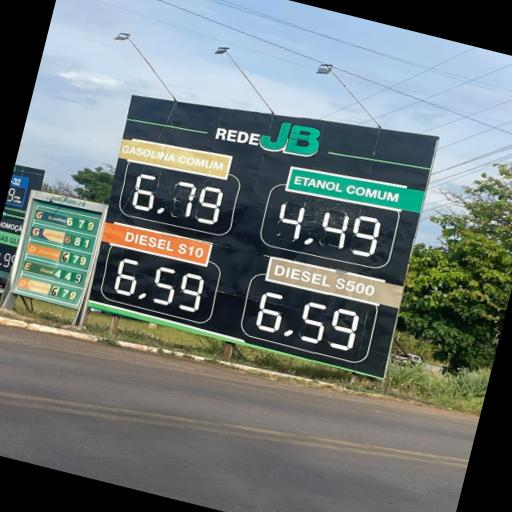ETANOL: (288, 170, 407, 211)
GASOLINA C: (120, 138, 231, 176)
S10: (105, 223, 207, 263)
S500: (270, 258, 383, 304)
placa: (88, 133, 430, 380)
preco: (251, 285, 368, 359), (273, 196, 389, 263), (121, 169, 235, 233), (106, 254, 211, 322)
